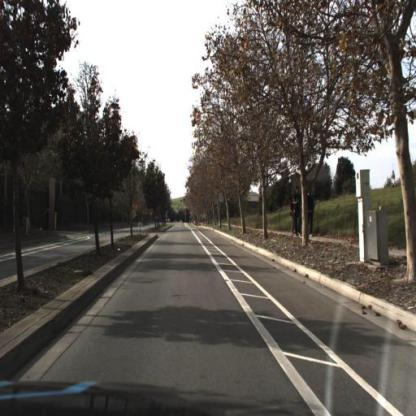pedestrian: (292, 185, 303, 241), (304, 187, 316, 238), (308, 188, 316, 233), (295, 186, 302, 235), (291, 192, 296, 234)
